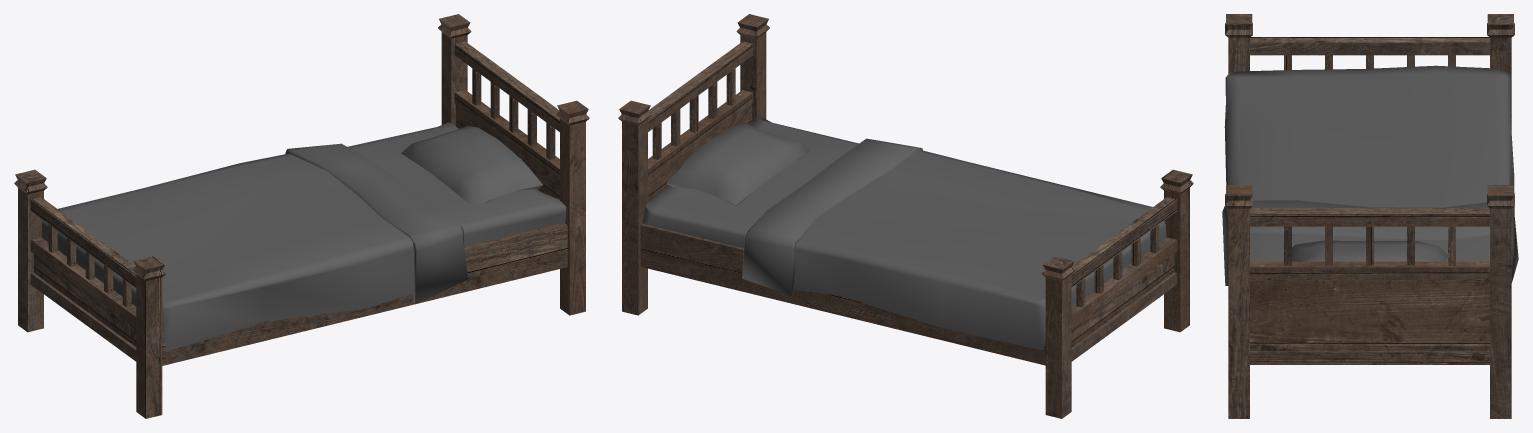
The model's file is mw_bed_01.FBX.
3 views of the same model, side by side, from view 1: azimuth 30°, elevation 25°; view 2: azimuth 150°, elevation 25°; view 3: azimuth 270°, elevation 25° (orthographic). The views are drawn at different scales.
Parts seen in each view (by area): view 1: mw_bed_01; view 2: mw_bed_01; view 3: mw_bed_01.
Part boxes in pixels (x1,y1,x2,y2): mw_bed_01: [14, 14, 589, 418]; mw_bed_01: [618, 14, 1193, 418]; mw_bed_01: [1222, 14, 1518, 418].
Bounding box in the file's own units: 285 × 124 × 149.
